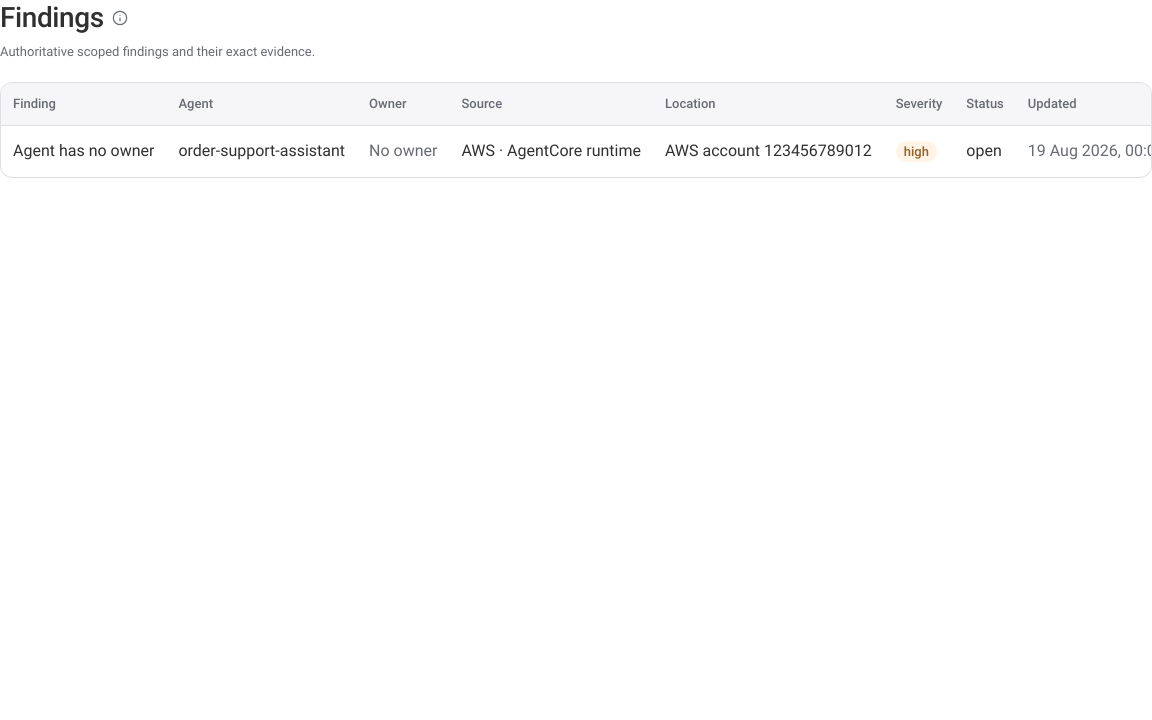
Test: findings show where the affected agent lives and who created it › lists the location in the table and the creator and suggestion in the affected agent block of an ownerless agent
This screenshot has width=1152, height=720.
Check: the column heading "Location" is shown, box [653,83,884,125]
Check: the text "AWS account 123456789012" is shown, box [653,125,884,177]
What coordinates should you click on to do the following:
click the button with aria-label "Open Agent has no owner"
I would click on:
 (84, 151)
Its box is [13,141,154,161].
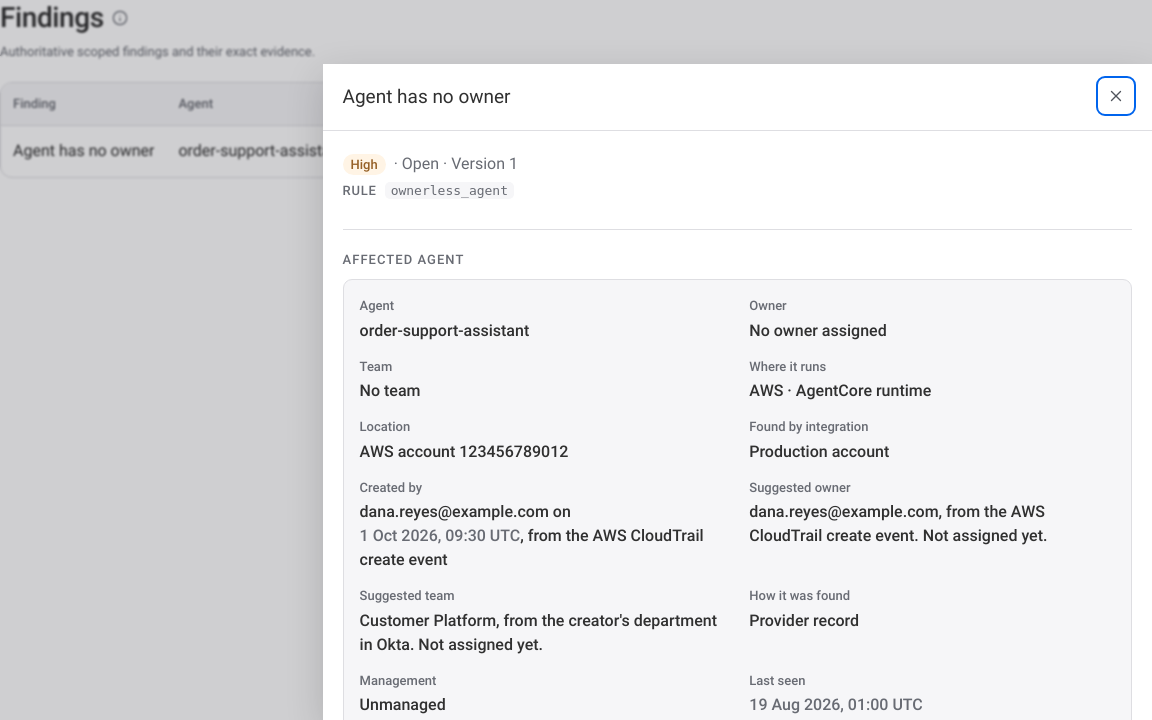
Check: the text "No owner assigned" is shown, box [749,321,887,340]
Check: the text "AWS · AgentCore runtime" is shown, box [749,382,931,400]
Check: the text "AWS account 123456789012" is shown, box [360,442,568,461]
